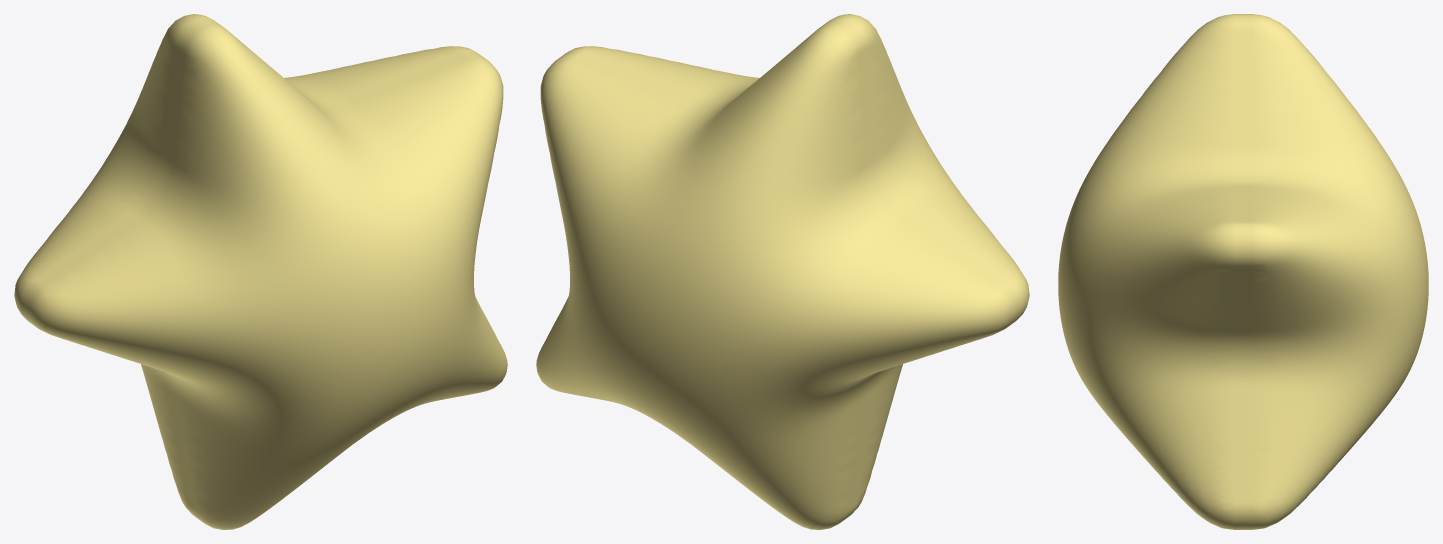
Rendered from Asset 6.gltf.
The picture shows the model from 3 angles, left to right: view 1: azimuth 30°, elevation 25°; view 2: azimuth 150°, elevation 25°; view 3: azimuth 270°, elevation 25°; orthographic projection. The views are drawn at different scales.
Bounding box in the file's own units: 0.1152 × 0.1179 × 0.0857.
